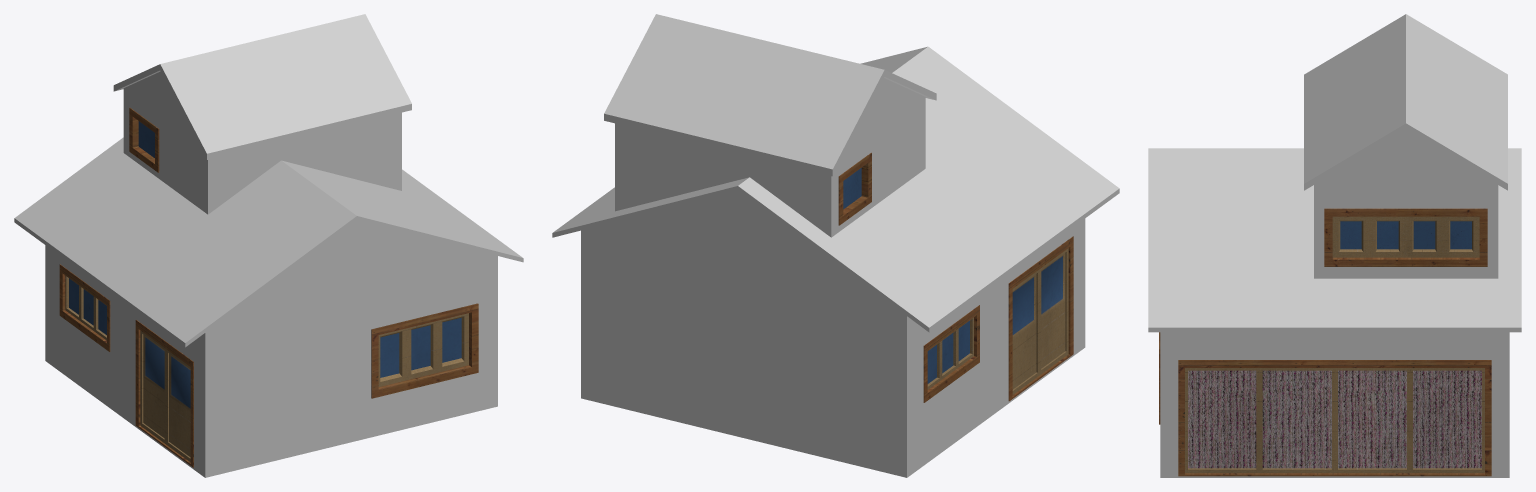
The model's file is House5-1.fbx.
3 views of the same model, side by side, from view 1: azimuth 30°, elevation 25°; view 2: azimuth 150°, elevation 25°; view 3: azimuth 270°, elevation 25° (orthographic). The views are drawn at different scales.
Parts seen in each view (by area): view 1: House5-1; view 2: House5-1; view 3: House5-1.
Boxes of the visible parts, x1,y1,x2,y2 form: House5-1: (14,14,523,477); House5-1: (552,14,1119,477); House5-1: (1148,14,1521,477).
Size of the model in its own units: 462 by 411 by 404.
